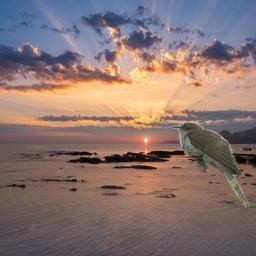Cuckoo: (172, 122, 249, 210)
